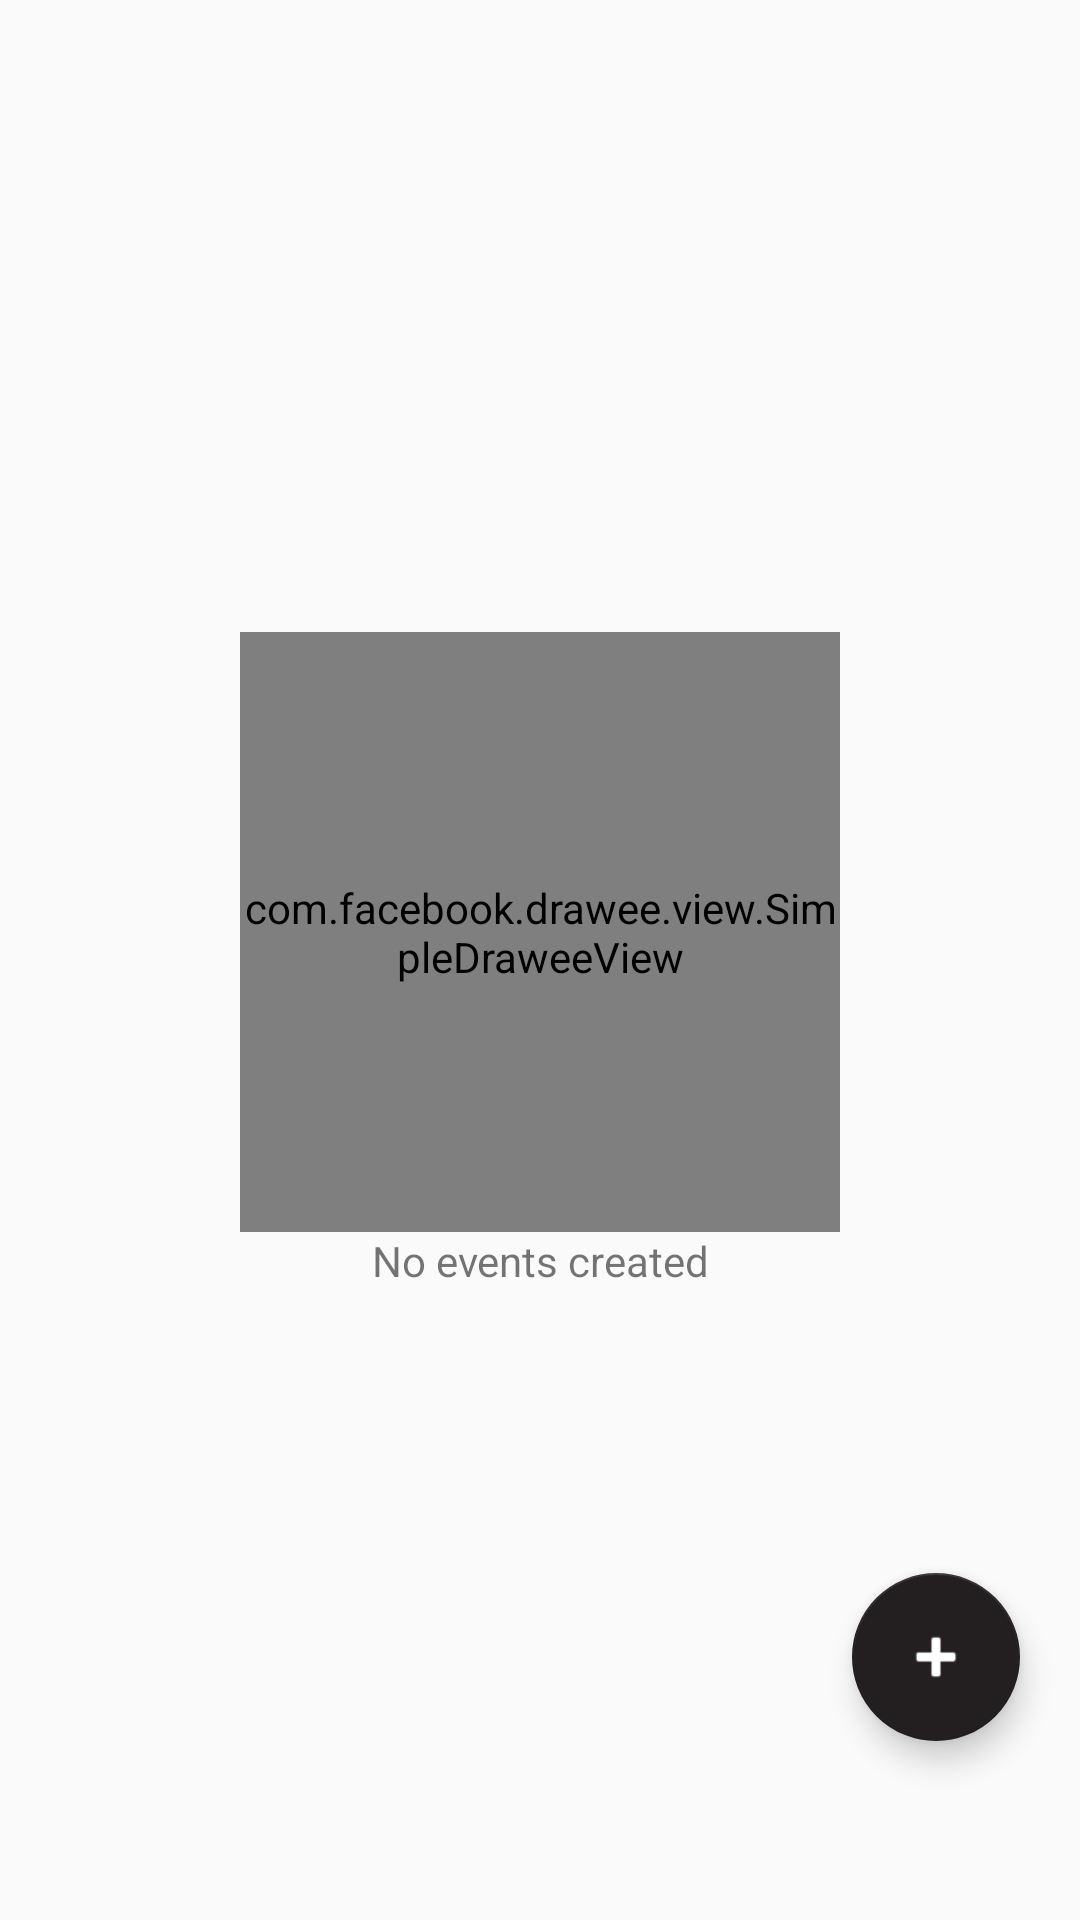

Where to tap for icons on this 1080px×1920px app screen, as point (x, y):
add: point (936, 1657)
